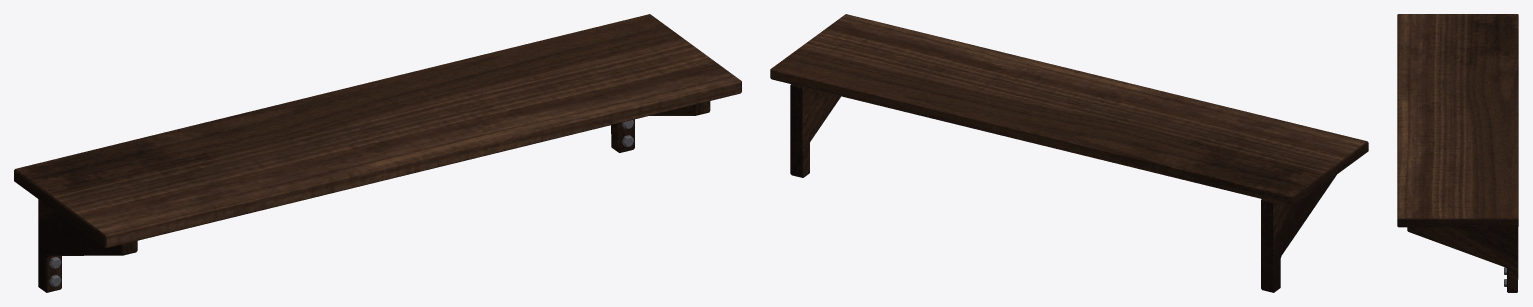
The model's file is woodenshelfscene.glb.
3 renders of one model, left to right at view 1: azimuth 30°, elevation 25°; view 2: azimuth 150°, elevation 25°; view 3: azimuth 270°, elevation 25°, orthographic. The views are drawn at different scales.
Visible parts, largest first — view 1: g (×2); view 2: g (×2); view 3: g (×2).
Part boxes in pixels (left/top/right/bottom): g (×2): left=14, top=14, right=741, bottom=292; g (×2): left=770, top=14, right=1368, bottom=292; g (×2): left=1397, top=14, right=1518, bottom=292.
Bounding box in the file's own units: 2 × 0.3739 × 0.5.
Materials: 1 (1 with a texture image).
